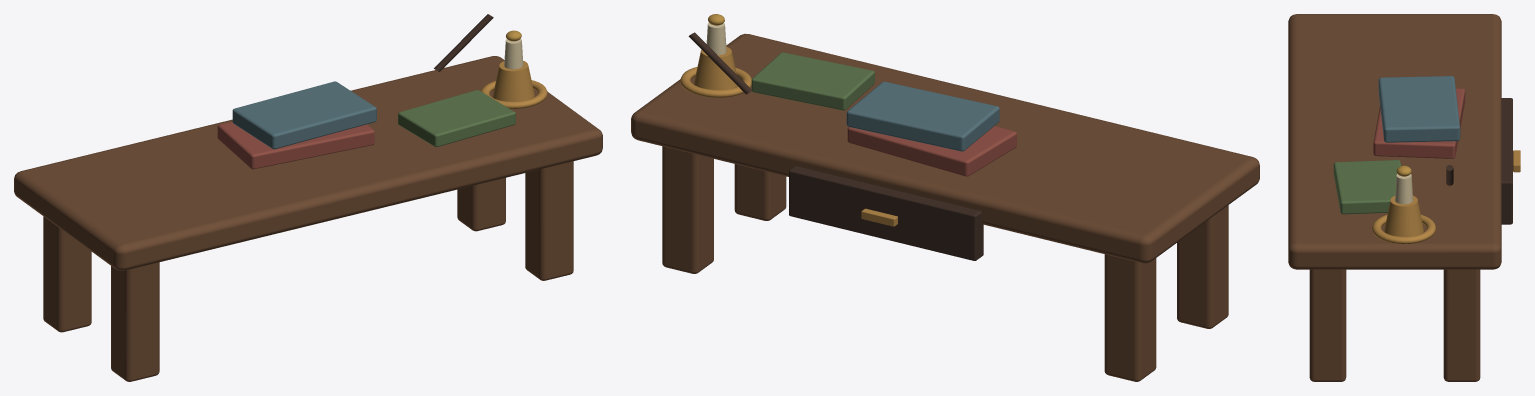
Rendered from detail_candle_desk.glb.
3 views of the same model, side by side, from view 1: azimuth 30°, elevation 25°; view 2: azimuth 150°, elevation 25°; view 3: azimuth 270°, elevation 25° (orthographic). The views are drawn at different scales.
Parts seen in each view (by area): view 1: plaster; view 2: plaster; view 3: plaster.
Part boxes in pixels (x1=…): plaster: x1=14, y1=14, x2=602, y2=381; plaster: x1=631, y1=23, x2=1259, y2=381; plaster: x1=1288, y1=14, x2=1520, y2=381.
Size of the model in its own units: 2.4 by 1 by 1.
